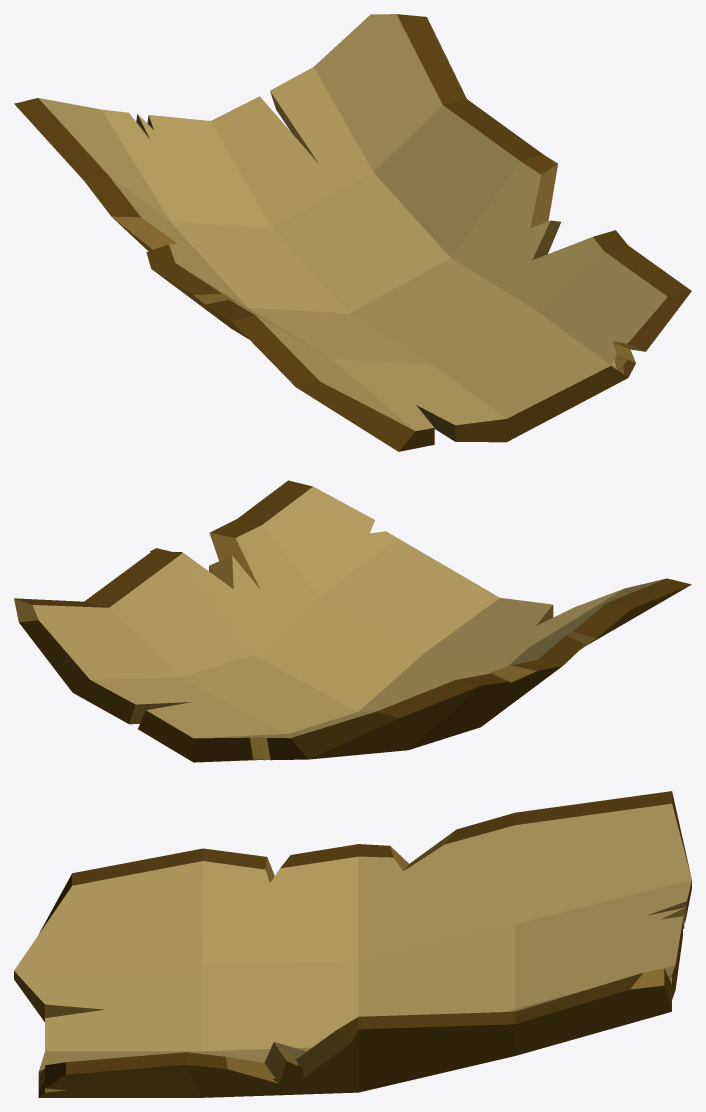
The model's file is ecorce.fbx.
3 views of the same model, one above another, from view 1: azimuth 30°, elevation 25°; view 2: azimuth 150°, elevation 25°; view 3: azimuth 270°, elevation 25° (orthographic). The views are drawn at different scales.
Parts seen in each view (by area): view 1: ecorce; view 2: ecorce; view 3: ecorce.
Part boxes in pixels (left/top/right/bottom): ecorce: left=14, top=14, right=691, bottom=451; ecorce: left=14, top=480, right=691, bottom=762; ecorce: left=14, top=791, right=691, bottom=1097.
Size of the model in its own units: 18.81 by 8.05 by 25.74.
